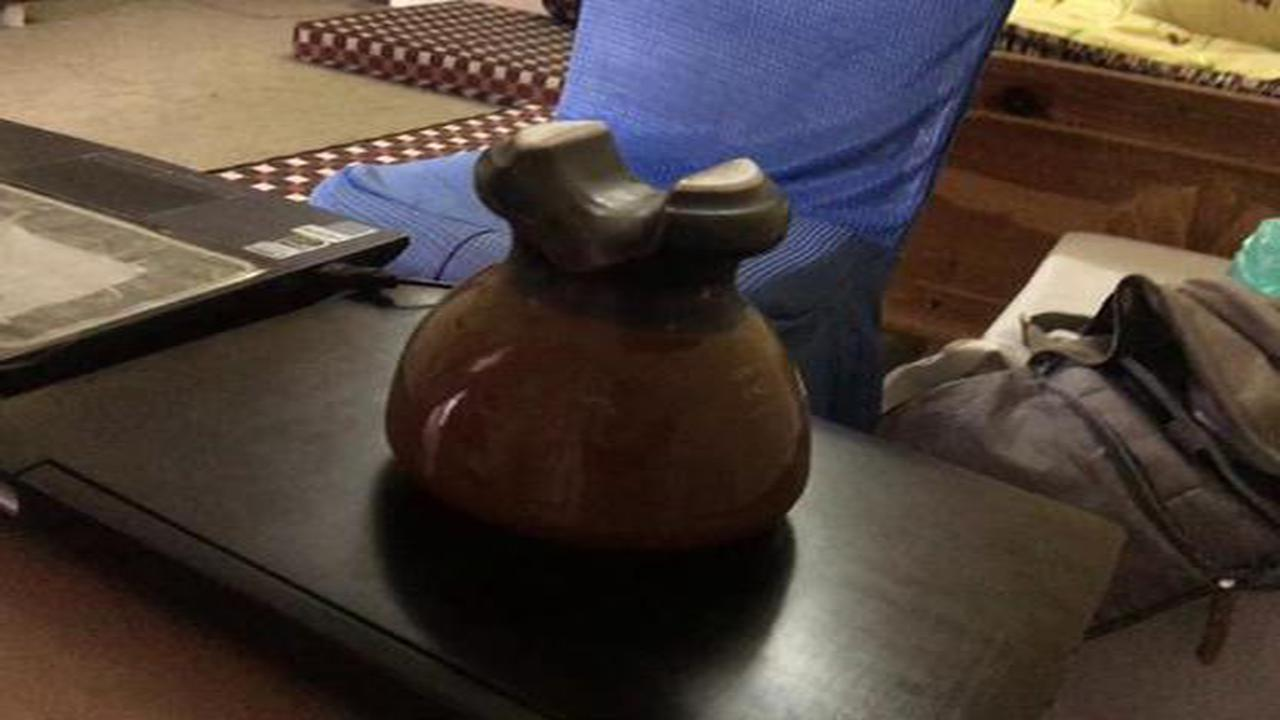insulator_pin: (366, 103, 831, 580)
